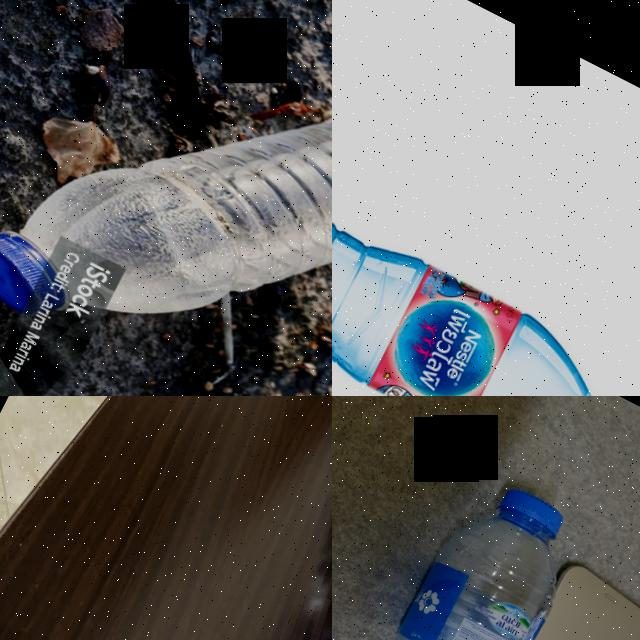bottle: (0, 0, 332, 396), (332, 130, 640, 396), (332, 452, 600, 640)
